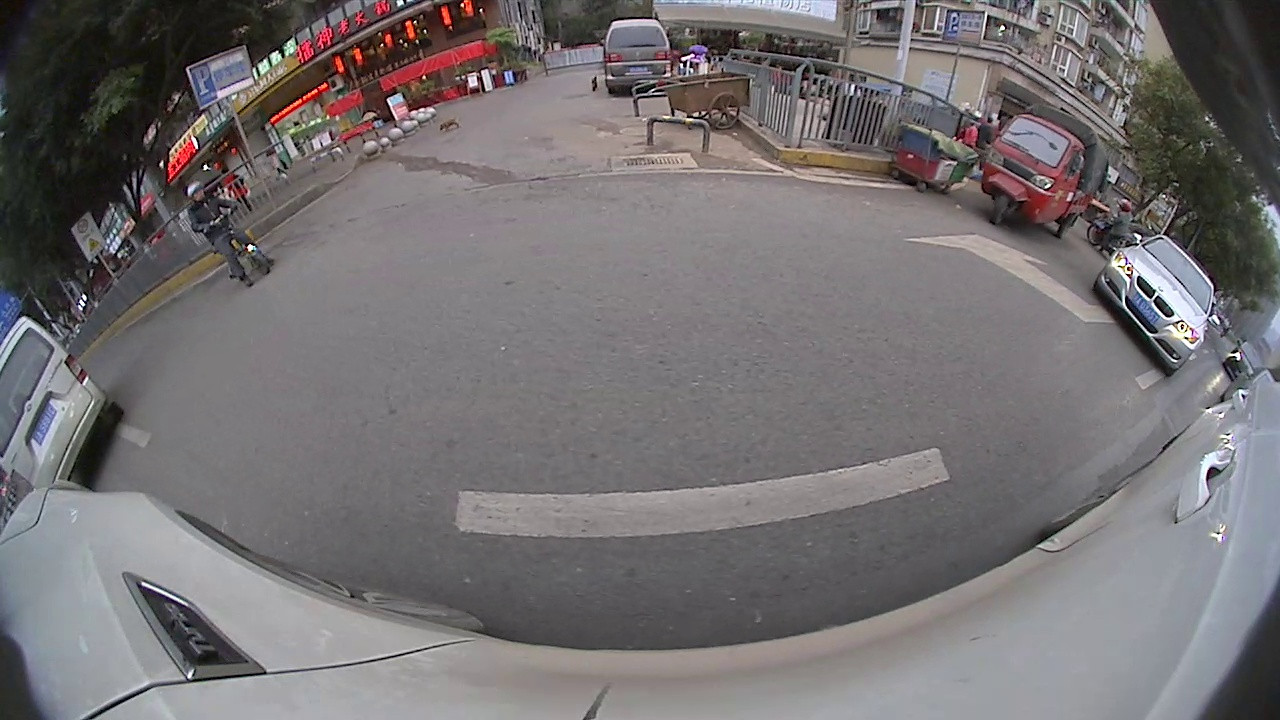car: (0, 313, 125, 496), (1089, 226, 1227, 389), (600, 16, 672, 97)
front: (991, 185, 1018, 227), (1085, 220, 1106, 246)
rider: (978, 95, 1110, 242), (179, 179, 283, 285), (1085, 197, 1146, 261)
